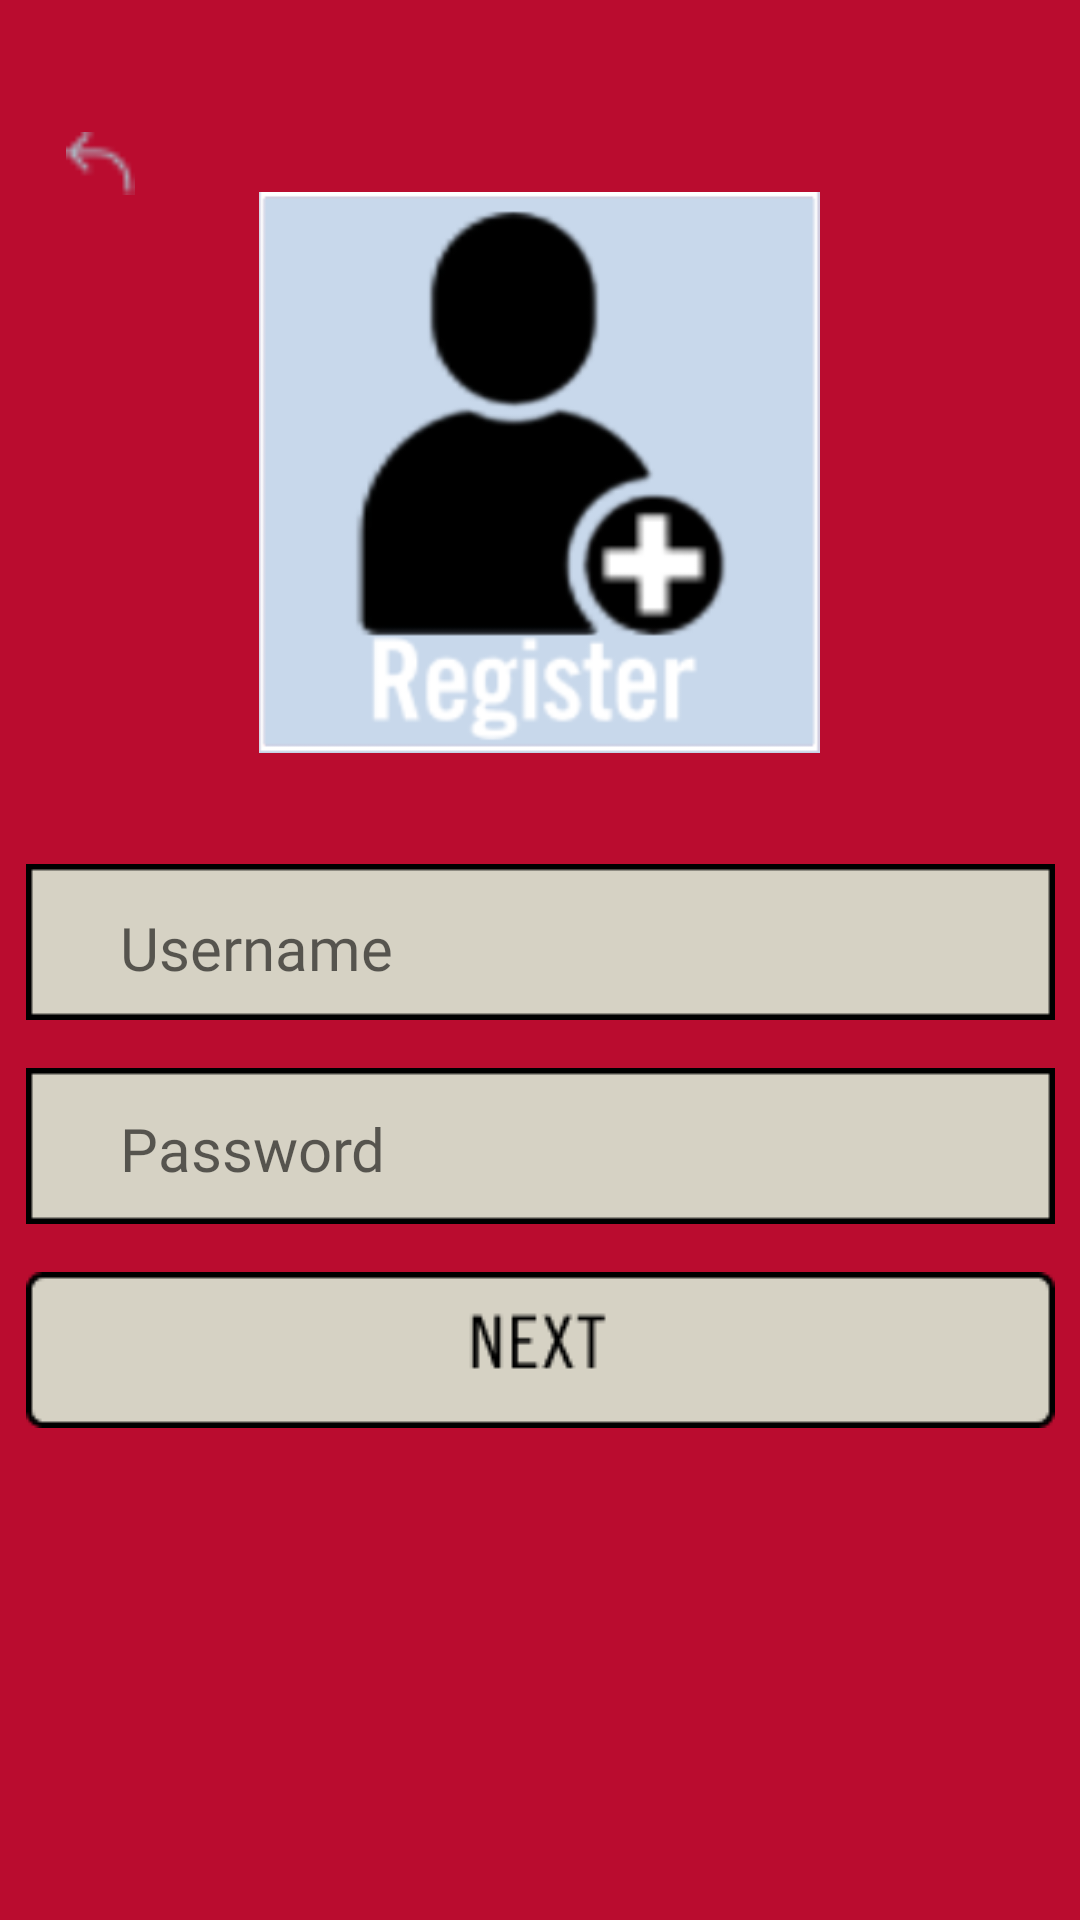

Icons on this 1080*1920 Android screen, each with the point to tap as (x=x, y=y):
back: (x=100, y=163)
